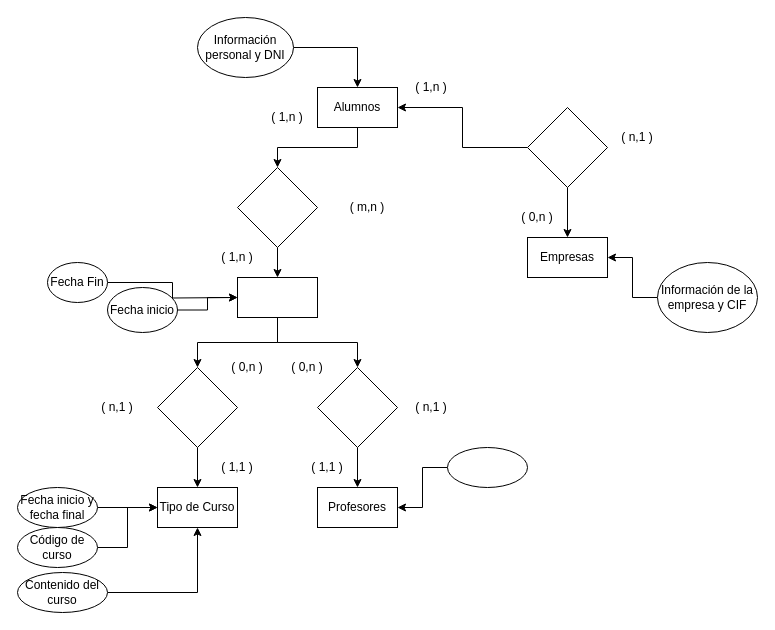
This 775x630 diagram has some shape labels left out. Here are the shapes that lost their labels. From the top down, the centre of each, then its label:
At (567,147): "Trabajar".
At (277,207): "Asiste".
At (277,297): "Cursos".
At (197,407): "Pertenece".
At (357,407): "Imparte".
At (487,467): "Información del profesor".
